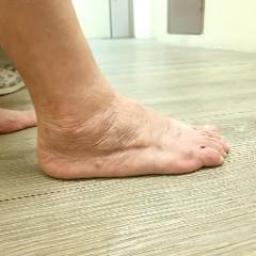Lateral View -Right Foot-: (16, 61, 245, 198)
